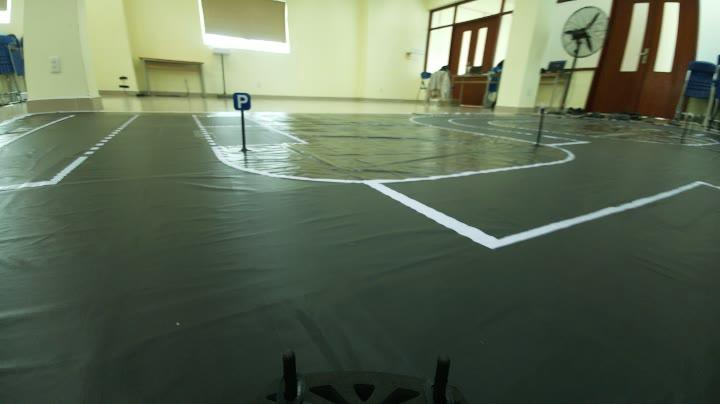parking: (226, 90, 252, 117)
